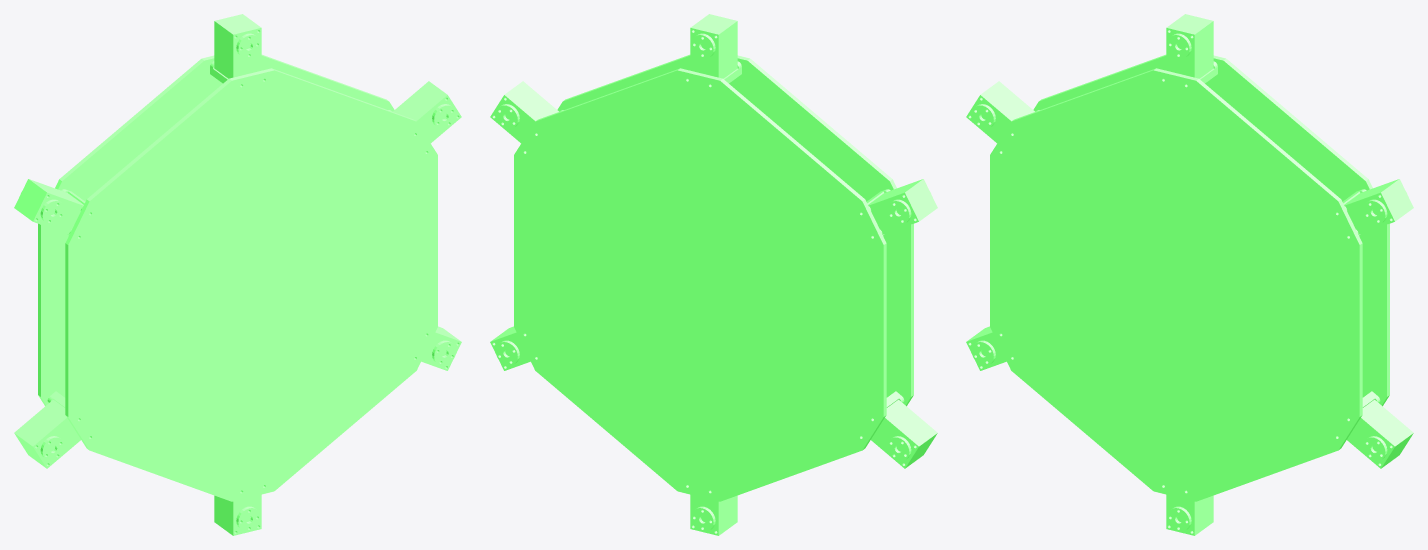
File: IKTRials_redone naming convention_robot_base_vis_1.dae
3 renders of one model, left to right at view 1: azimuth 30°, elevation 25°; view 2: azimuth 150°, elevation 25°; view 3: azimuth 330°, elevation 25°, orthographic.
Parts seen in each view (by area): view 1: node; view 2: node; view 3: node.
Boxes of the visible parts, x1,y1,x2,y2 form: node: (14,14,461,535); node: (490,14,937,535); node: (966,14,1413,535).
Bounding box in the file's own units: 1.51 × 1.69 × 0.185.
